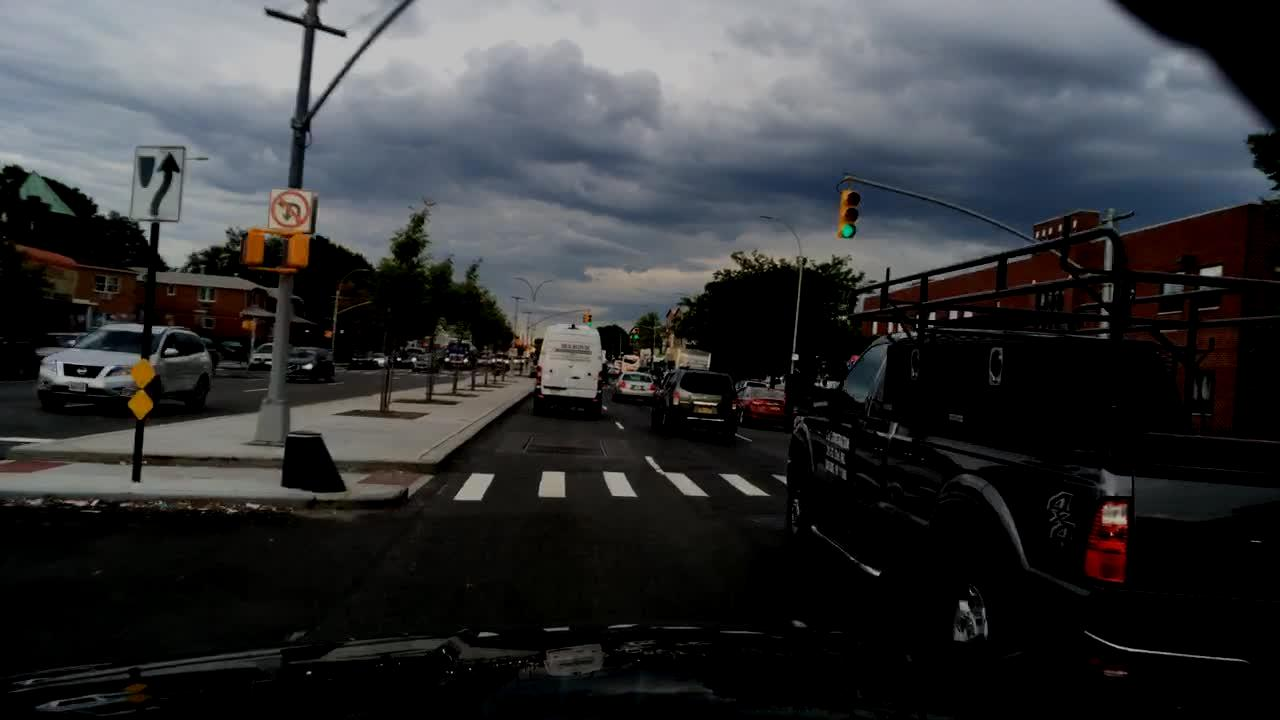Nissan: (74, 365, 93, 380)
